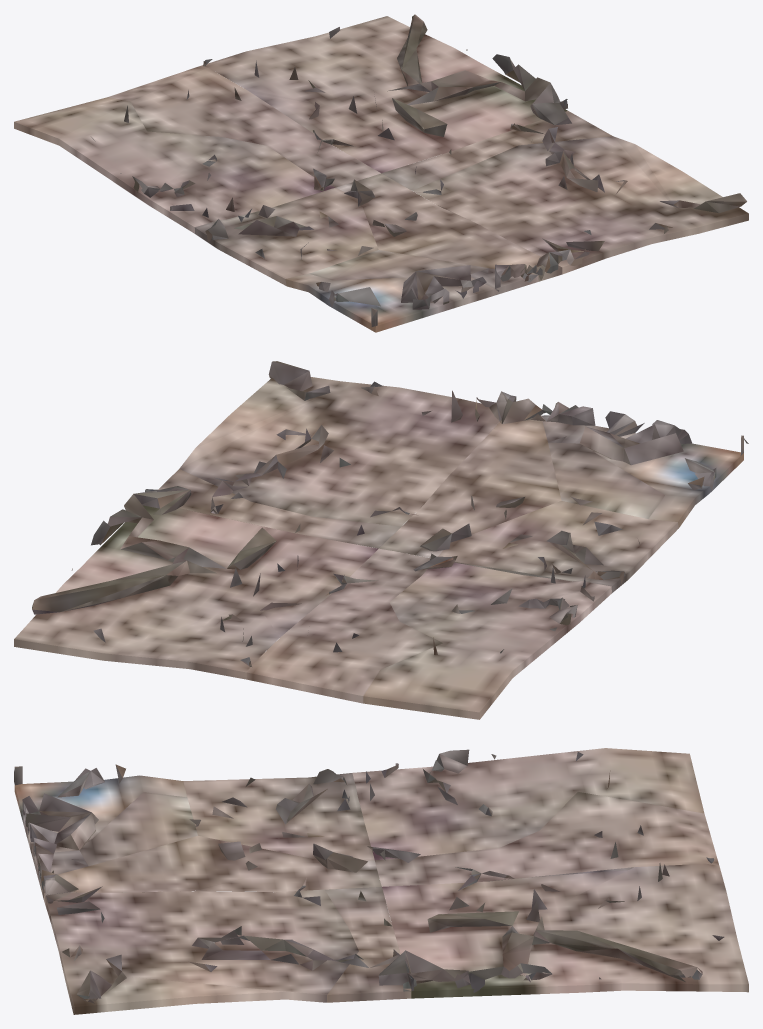
The picture shows the model from 3 angles, top to bottom: view 1: azimuth 30°, elevation 25°; view 2: azimuth 150°, elevation 25°; view 3: azimuth 270°, elevation 25°; orthographic projection. The views are drawn at different scales.
Parts seen in each view (by area): view 1: Mesh_0; view 2: Mesh_0; view 3: Mesh_0.
Boxes of the visible parts, <box> form: Mesh_0: <box>14,14,748,332</box>; Mesh_0: <box>14,361,748,719</box>; Mesh_0: <box>14,748,748,1014</box>.
Size of the model in its own units: 533 by 46.88 by 660.
1 material, 1 textured.
